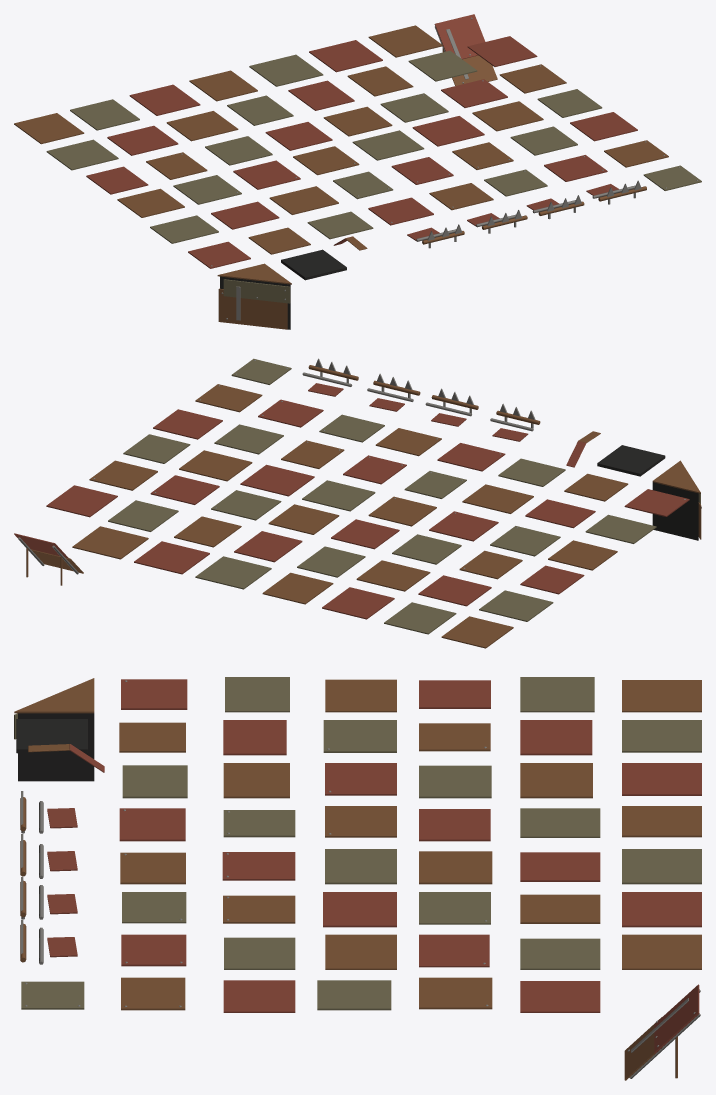
File: R4H_HullKit.fbx
The picture shows the model from 3 angles, top to bottom: view 1: azimuth 30°, elevation 25°; view 2: azimuth 150°, elevation 25°; view 3: azimuth 270°, elevation 25°; orthographic projection. The views are drawn at different scales.
Visible parts, largest first — view 1: cheek, ramp, plate_15_0, plate_15_2, plate_15_1, plate_14_1, plate_07_1, plate_11_0, plate_14_0, plate_13_2, plate_11_2, plate_07_0 (+43 smaller); view 2: cheek, plate_15_0, plate_15_2, plate_15_1, plate_07_1, plate_11_0, plate_14_1, plate_13_2, plate_14_0, plate_11_2, plate_07_0, plate_07_2 (+43 smaller); view 3: cheek, plate_15_0, plate_15_1, plate_15_2, ramp, plate_11_0, plate_07_1, plate_13_2, plate_14_0, plate_14_1, plate_11_2, plate_11_1 (+43 smaller).
Boxes of the visible parts, <box> form: cheek: <box>217,263,291,329</box>; ramp: <box>434,14,497,85</box>; plate_15_0: <box>249,54,323,86</box>; plate_15_2: <box>368,25,442,57</box>; plate_15_1: <box>309,40,382,72</box>; plate_14_1: <box>129,84,200,115</box>; plate_07_1: <box>412,116,484,146</box>; plate_11_0: <box>46,139,118,170</box>; plate_14_0: <box>70,99,139,130</box>; plate_13_2: <box>14,113,84,144</box>; plate_11_2: <box>166,111,238,141</box>; plate_07_0: <box>352,130,424,160</box>; cheek: <box>652,460,701,540</box>; plate_15_0: <box>195,556,271,589</box>; plate_15_2: <box>72,526,148,559</box>; plate_15_1: <box>134,541,209,574</box>; plate_07_1: <box>240,464,314,496</box>; plate_11_0: <box>479,590,553,621</box>; plate_14_1: <box>322,587,394,619</box>; plate_13_2: <box>441,616,513,648</box>; plate_14_0: <box>384,602,456,634</box>; plate_11_2: <box>356,560,430,591</box>; plate_07_0: <box>302,480,375,511</box>; plate_07_2: <box>179,450,252,481</box>; cheek: <box>14,678,94,781</box>; plate_15_0: <box>622,849,701,884</box>; plate_15_1: <box>622,892,701,927</box>; plate_15_2: <box>622,934,701,969</box>; ramp: <box>624,984,700,1080</box>; plate_11_0: <box>520,677,594,712</box>; plate_07_1: <box>323,892,396,927</box>; plate_13_2: <box>622,680,701,712</box>; plate_14_0: <box>622,720,701,752</box>; plate_14_1: <box>622,763,701,795</box>; plate_11_2: <box>520,763,592,798</box>; plate_11_1: <box>520,720,592,755</box>.
Bounding box in the file's own units: 5.45 × 0.7267 × 4.74.
